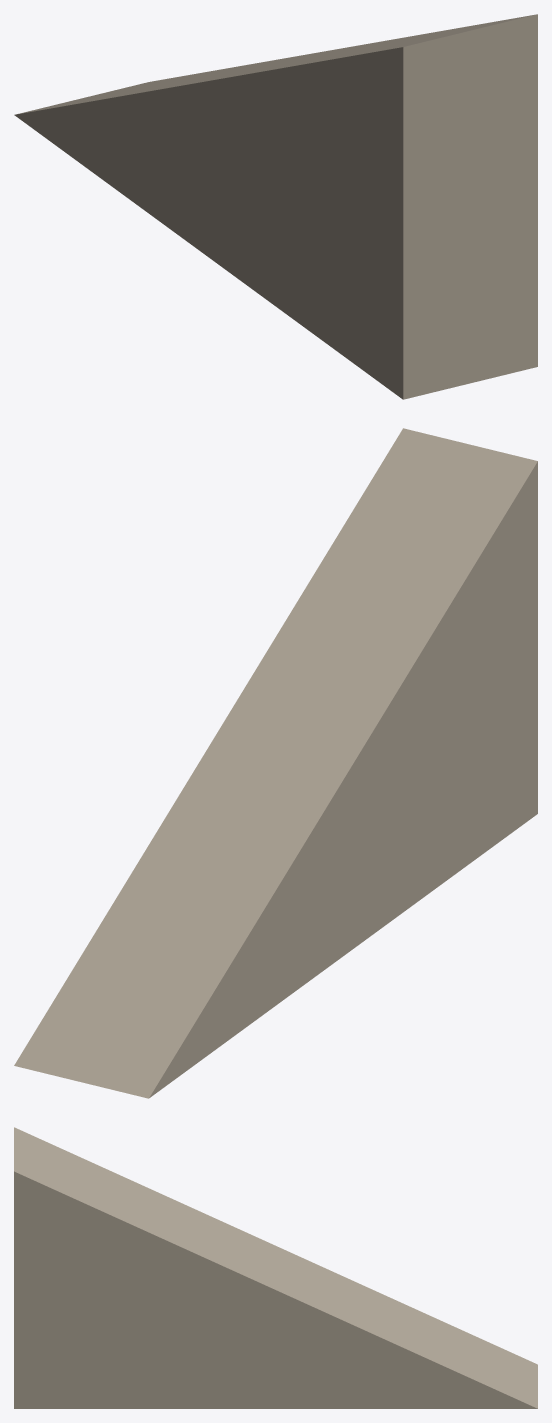
The model's file is Village_Wall_Plaster_2m_Slant_B.fbx.
3 views of the same model, one above another, from view 1: azimuth 30°, elevation 25°; view 2: azimuth 150°, elevation 25°; view 3: azimuth 270°, elevation 25° (orthographic). The views are drawn at different scales.
Parts seen in each view (by area): view 1: Village_Wall_2m_Roof_A.279; view 2: Village_Wall_2m_Roof_A.279; view 3: Village_Wall_2m_Roof_A.279.
Part boxes in pixels (left/top/right/bottom): Village_Wall_2m_Roof_A.279: left=14, top=14, right=537, bottom=399; Village_Wall_2m_Roof_A.279: left=14, top=428, right=537, bottom=1098; Village_Wall_2m_Roof_A.279: left=14, top=1127, right=537, bottom=1408.
Size of the model in its own units: 40 by 100 by 200.
